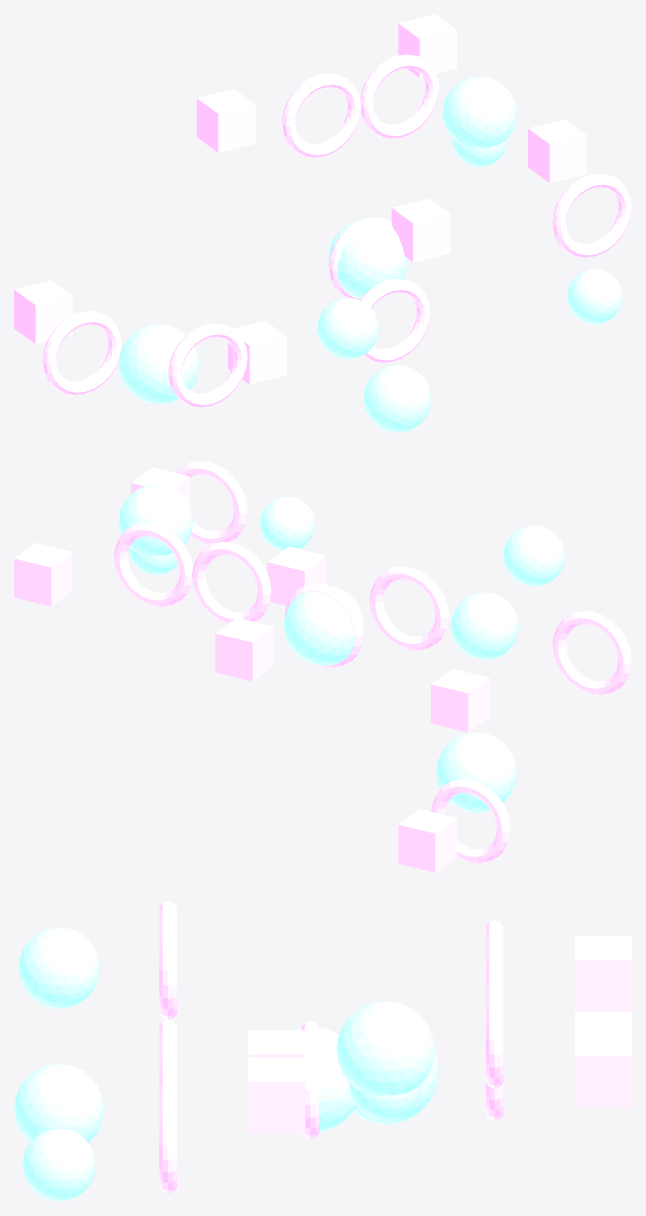
Rendered from living_world.glb.
The picture shows the model from 3 angles, top to bottom: view 1: azimuth 30°, elevation 25°; view 2: azimuth 150°, elevation 25°; view 3: azimuth 270°, elevation 25°; orthographic projection. The views are drawn at different scales.
Parts seen in each view (by area): view 1: world; view 2: world; view 3: world.
Part boxes in pixels (left/top/right/bottom): world: left=14, top=14, right=631, bottom=432; world: left=14, top=461, right=631, bottom=872; world: left=14, top=901, right=631, bottom=1201.
Bounding box in the file's own units: 4.23 × 2.27 × 3.69.
